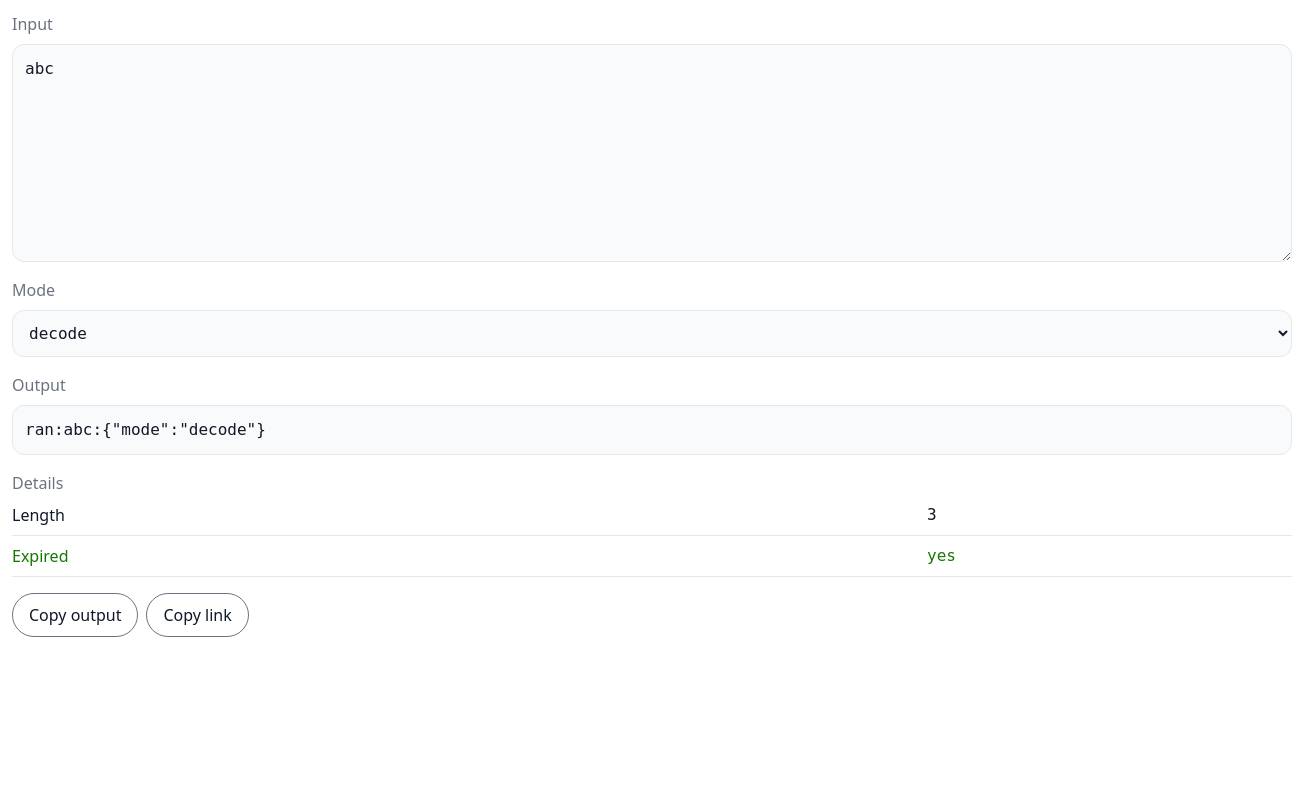
it: ToolPane › re-runs immediately when an option changes
Select "encode" in the dropdown labelled "Mode" at (652,334), box [12,310,1292,357]
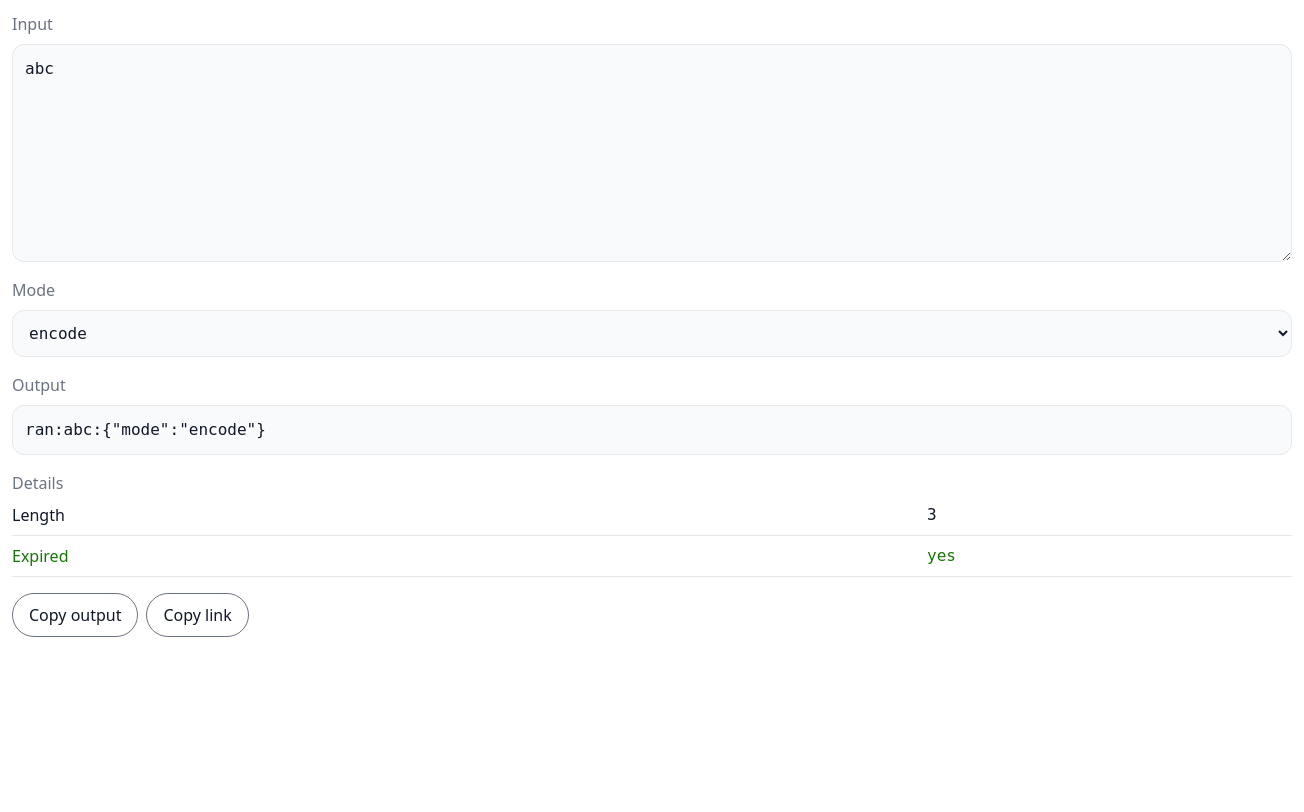
Now the text "ran:abc:{\"mode\":\"encode\"}" is shown, box [12,405,1292,455]
